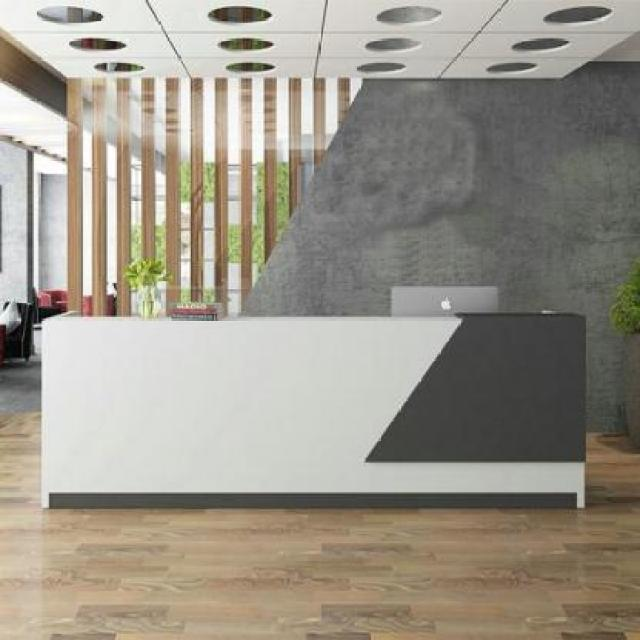frontdesk: (28, 250, 598, 518)
